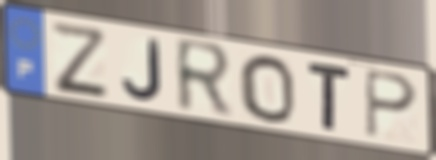J: (120, 36, 166, 104)
O: (236, 53, 298, 126)
P: (362, 67, 420, 140)
R: (172, 35, 236, 122)
T: (304, 59, 354, 134)
Z: (47, 19, 112, 98)
